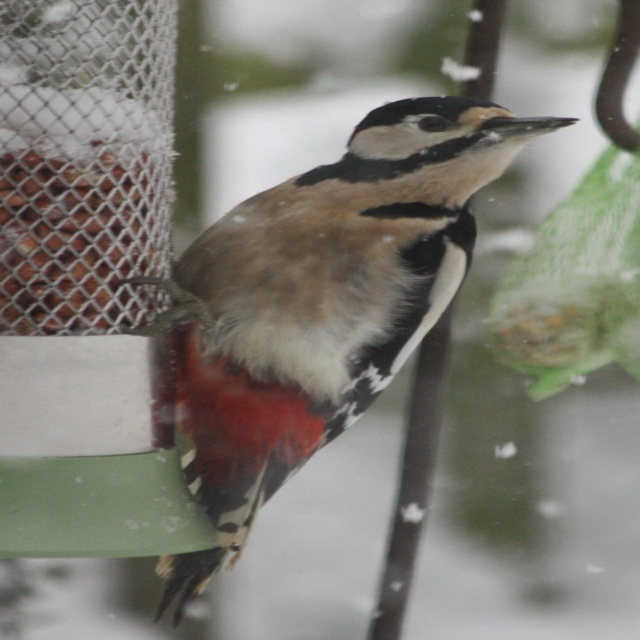Woodpecker: (116, 96, 579, 630)
